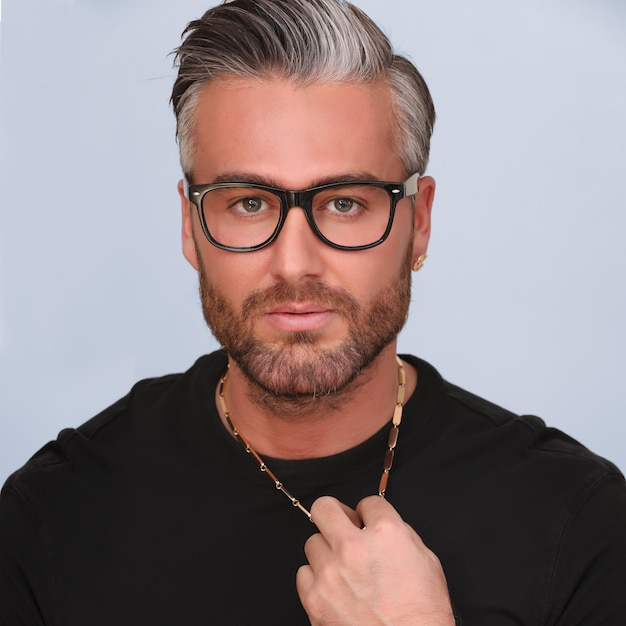young: (148, 7, 443, 404)
